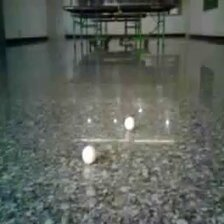w: (81, 145, 96, 164), (123, 116, 136, 131)
